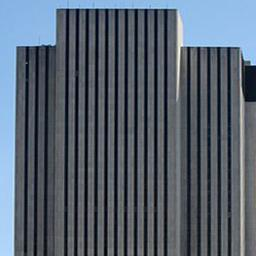building: (11, 0, 241, 256)
